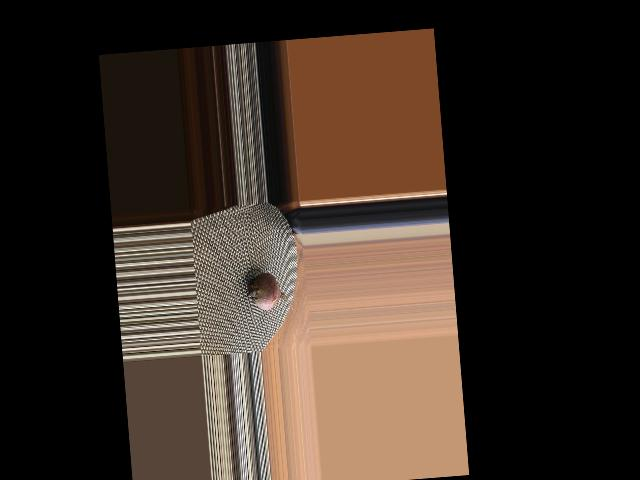beet: (243, 265, 293, 317)
